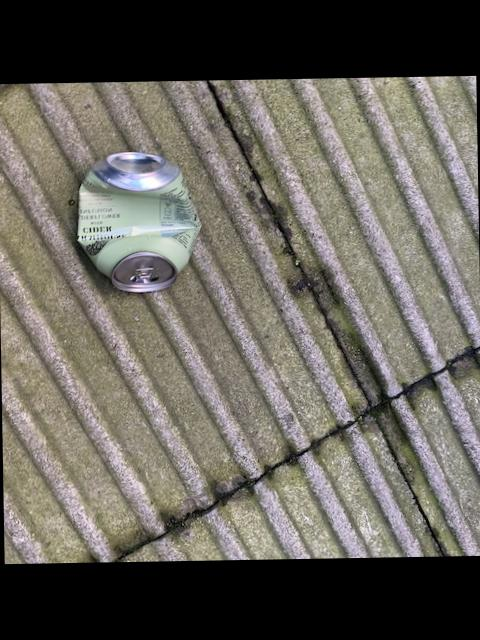metal: (78, 154, 200, 294)
